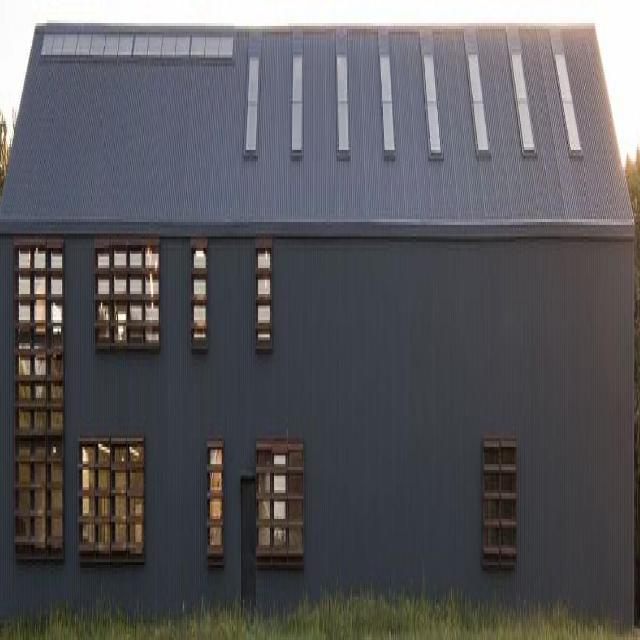window: (16, 240, 64, 548), (256, 429, 304, 563), (79, 445, 143, 545), (96, 252, 160, 348), (41, 33, 235, 61), (554, 44, 581, 150), (510, 44, 534, 149), (422, 17, 440, 152), (468, 44, 489, 149), (245, 20, 262, 149), (206, 437, 224, 551), (379, 17, 394, 152), (256, 242, 275, 346), (292, 20, 304, 150), (336, 21, 348, 150), (192, 240, 205, 350)
